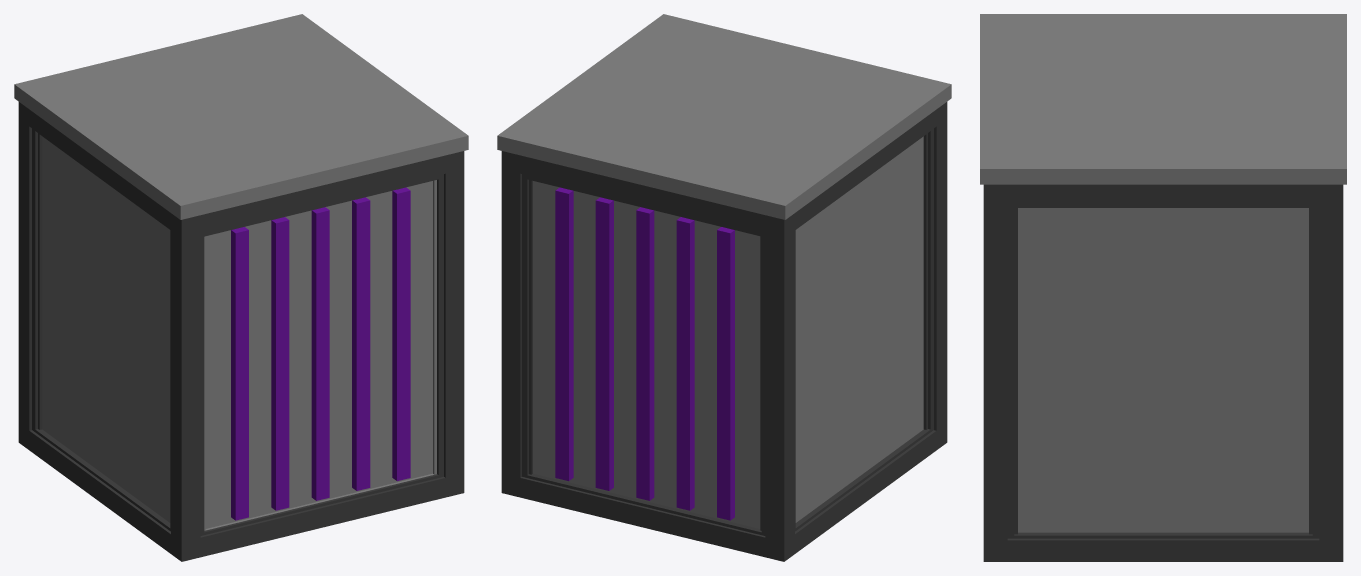
File: Platform.fbx
The picture shows the model from 3 angles, left to right: view 1: azimuth 30°, elevation 25°; view 2: azimuth 150°, elevation 25°; view 3: azimuth 270°, elevation 25°; orthographic projection. The views are drawn at different scales.
Visible parts, largest first — view 1: Platform; view 2: Platform; view 3: Platform.
Part boxes in pixels (x1,y1,x2,y2): Platform: (14,14,468,561); Platform: (497,14,951,561); Platform: (980,14,1346,561).
Size of the model in its own units: 596 by 707 by 596.
